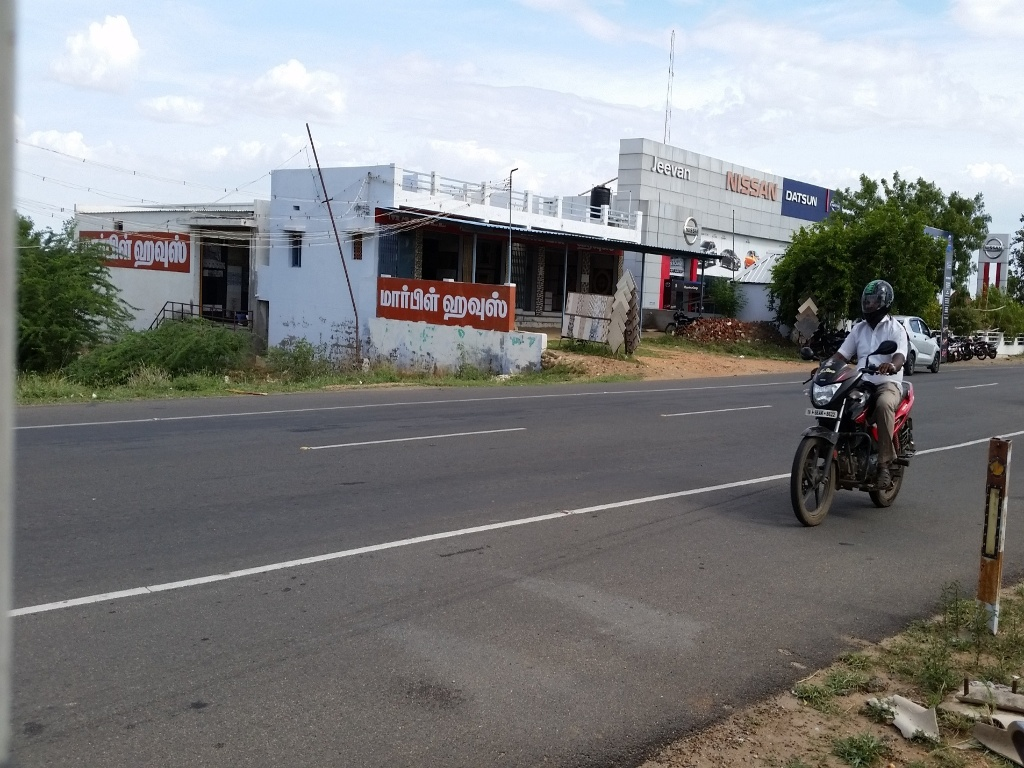biker: (773, 235, 937, 536)
helmet: (852, 272, 903, 332)
